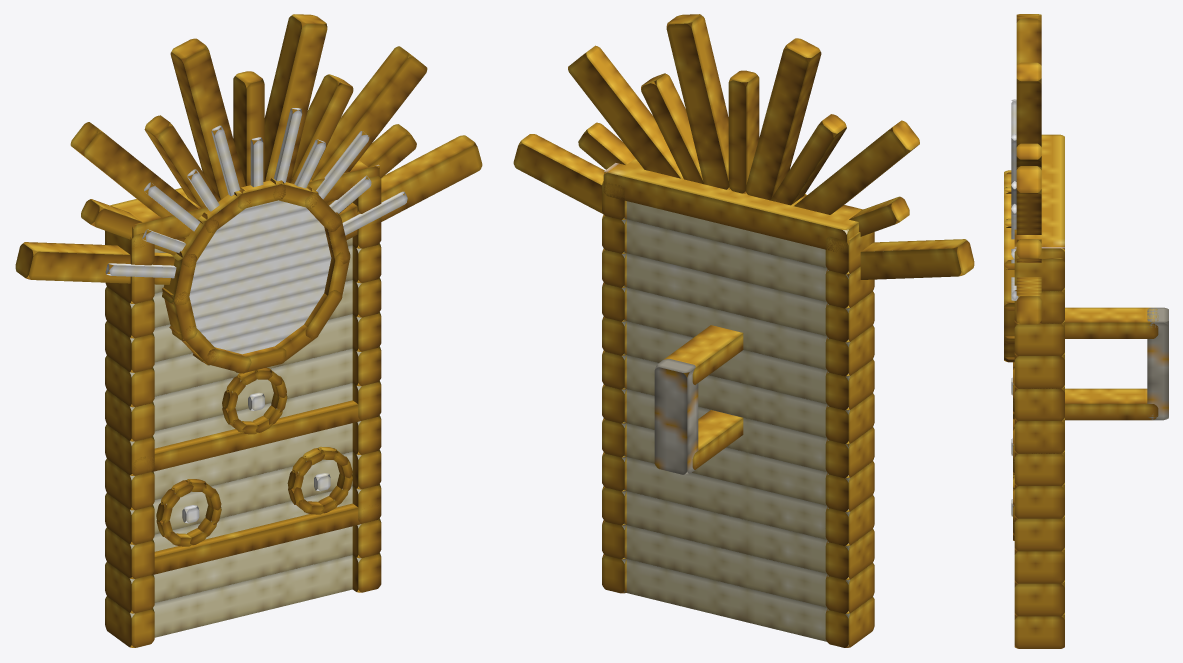
The model's file is aegis_of_dawn.obj.
3 views of the same model, side by side, from view 1: azimuth 30°, elevation 25°; view 2: azimuth 150°, elevation 25°; view 3: azimuth 270°, elevation 25° (orthographic). The views are drawn at different scales.
Parts seen in each view (by area): view 1: lit, fire; view 2: lit; view 3: lit, fire.
Boxes of the visible parts, x1,y1,x2,y2 form: lit: [15, 14, 482, 647]; fire: [105, 108, 407, 523]; lit: [513, 14, 974, 647]; lit: [1004, 14, 1168, 648]; fire: [1011, 99, 1018, 516].
Size of the model in its own units: 1.73 by 2.12 by 0.575.
